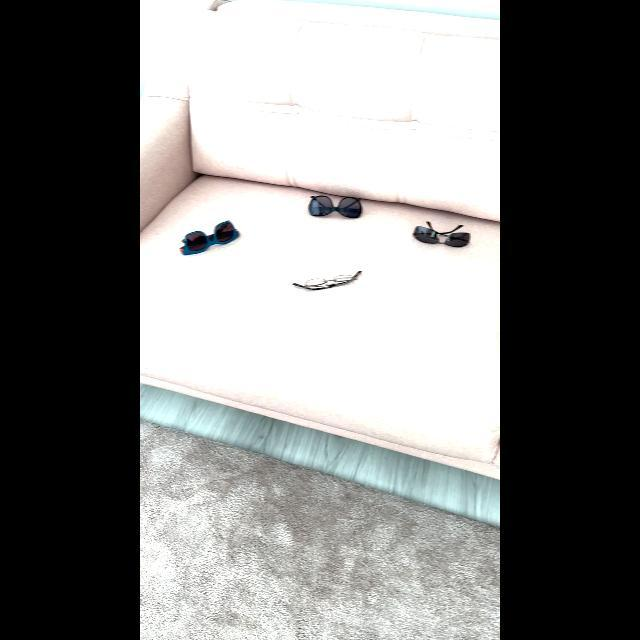eyewear: (175, 214, 249, 264), (282, 258, 366, 302), (304, 185, 371, 225), (409, 215, 477, 249)
